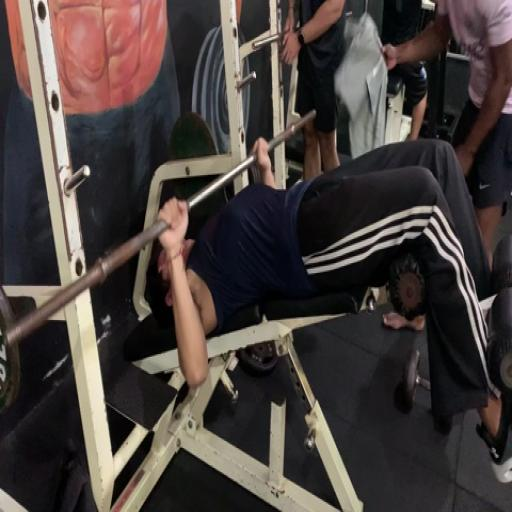exercise: (148, 132, 511, 480)
